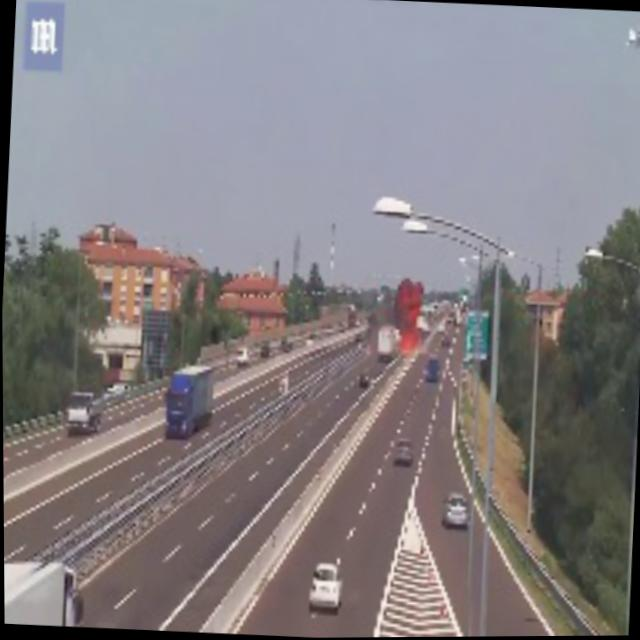fire: (388, 278, 421, 350)
